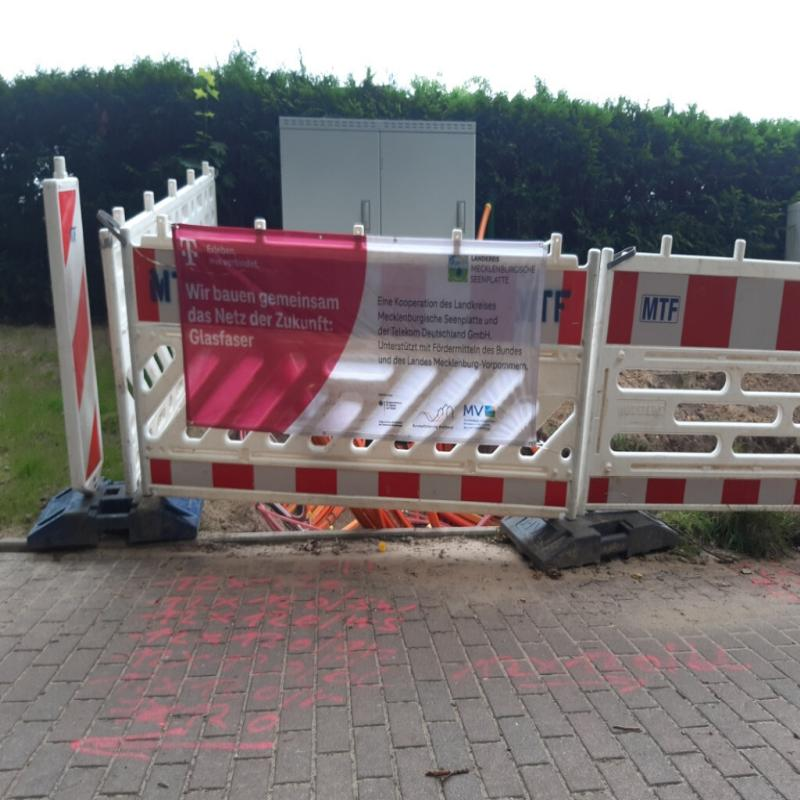Banner: (174, 220, 550, 452)
